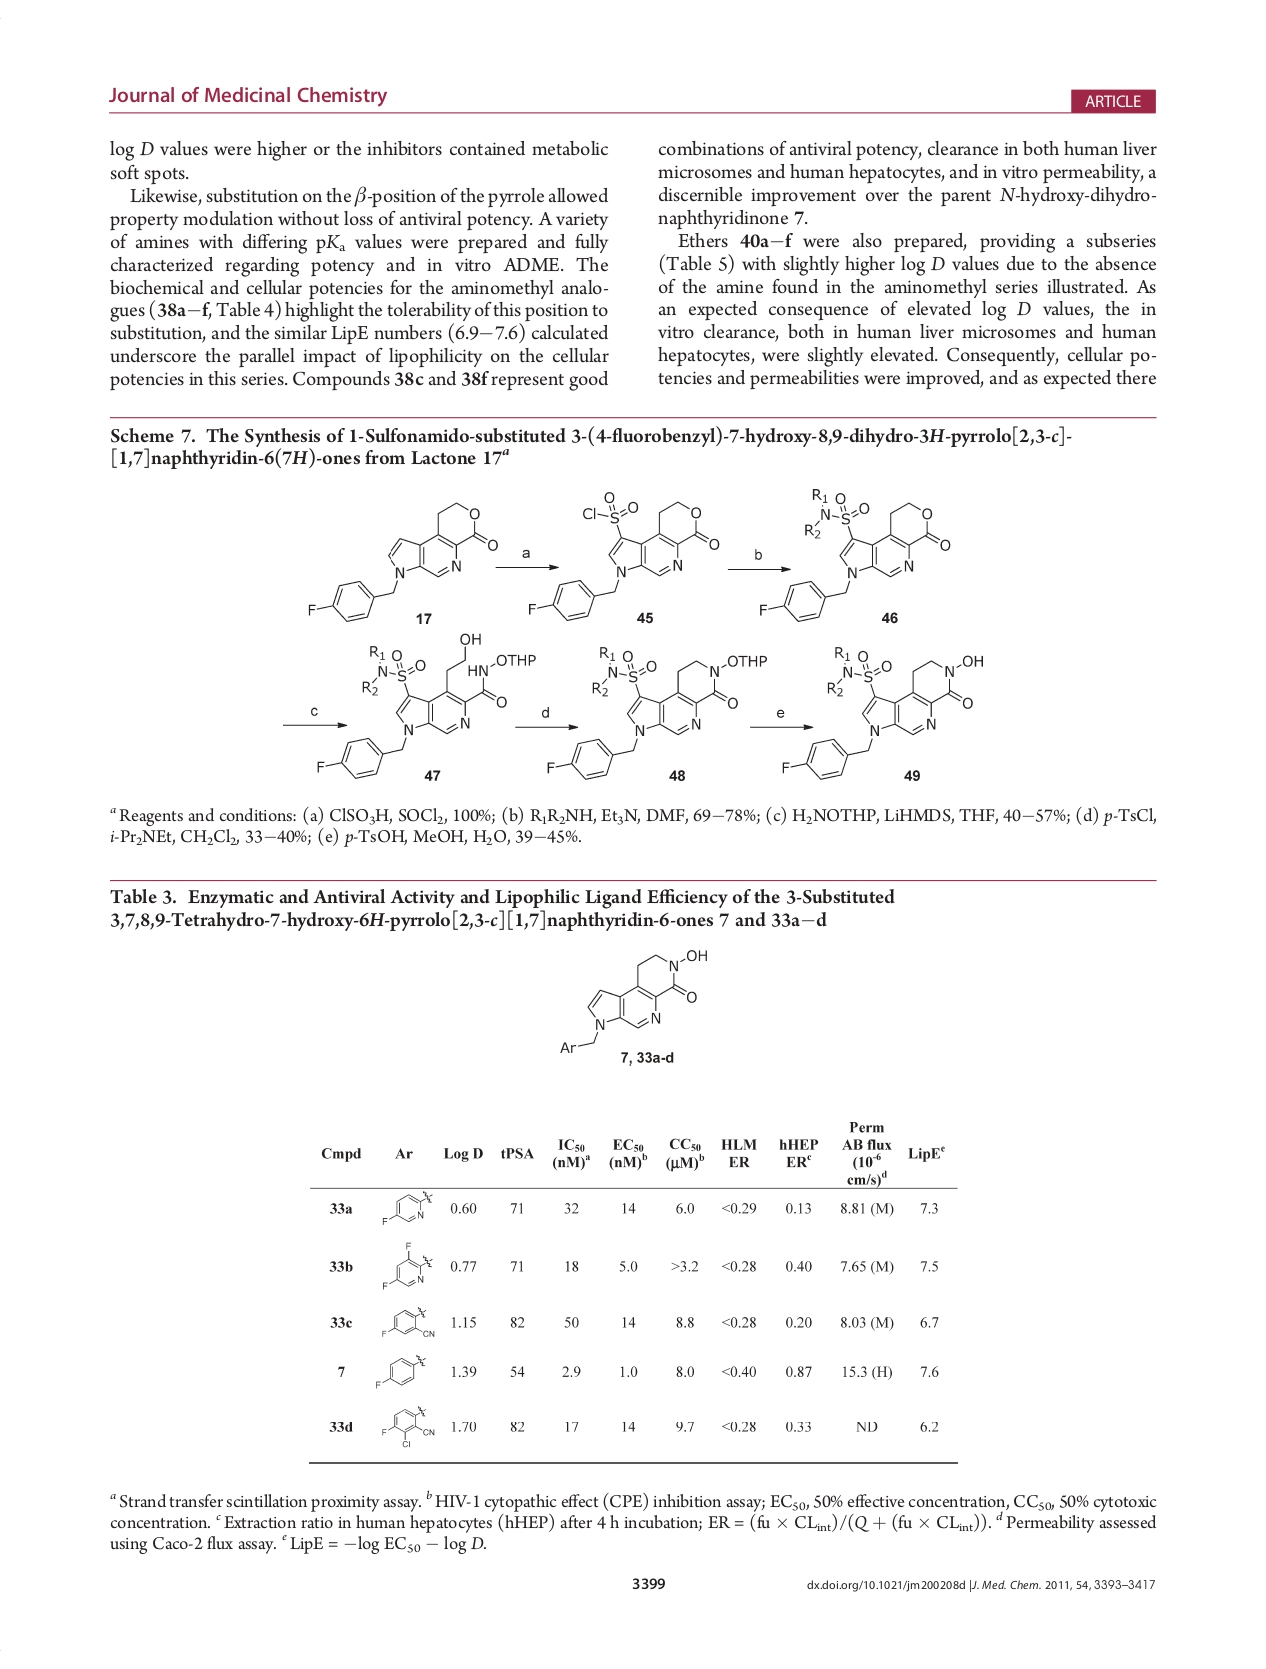exist_molecular: (315, 632, 536, 785), (545, 642, 767, 783), (781, 644, 981, 782), (755, 485, 953, 625), (527, 489, 721, 622), (302, 497, 499, 625), (559, 950, 707, 1055), (376, 1238, 436, 1290), (380, 1404, 442, 1451), (368, 1350, 430, 1392), (376, 1301, 435, 1341), (382, 1190, 434, 1225)
